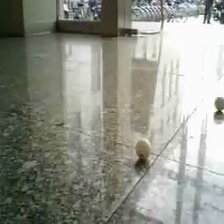w: (134, 138, 152, 159), (213, 95, 224, 111)
